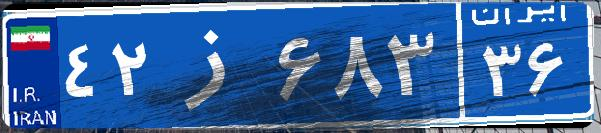2: (110, 28, 158, 105)
3: (385, 28, 445, 110), (475, 38, 525, 113)
4: (57, 26, 110, 107)
6: (273, 28, 330, 110), (525, 38, 570, 115)
8: (330, 28, 385, 110)
ز: (158, 15, 273, 115)
